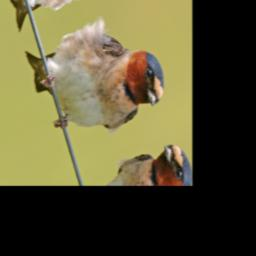Swallow: (23, 0, 173, 162)
